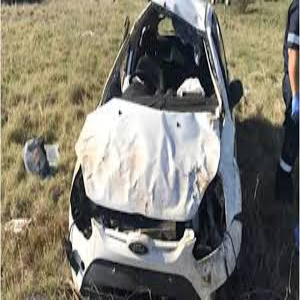bonnet: (77, 106, 218, 219)
